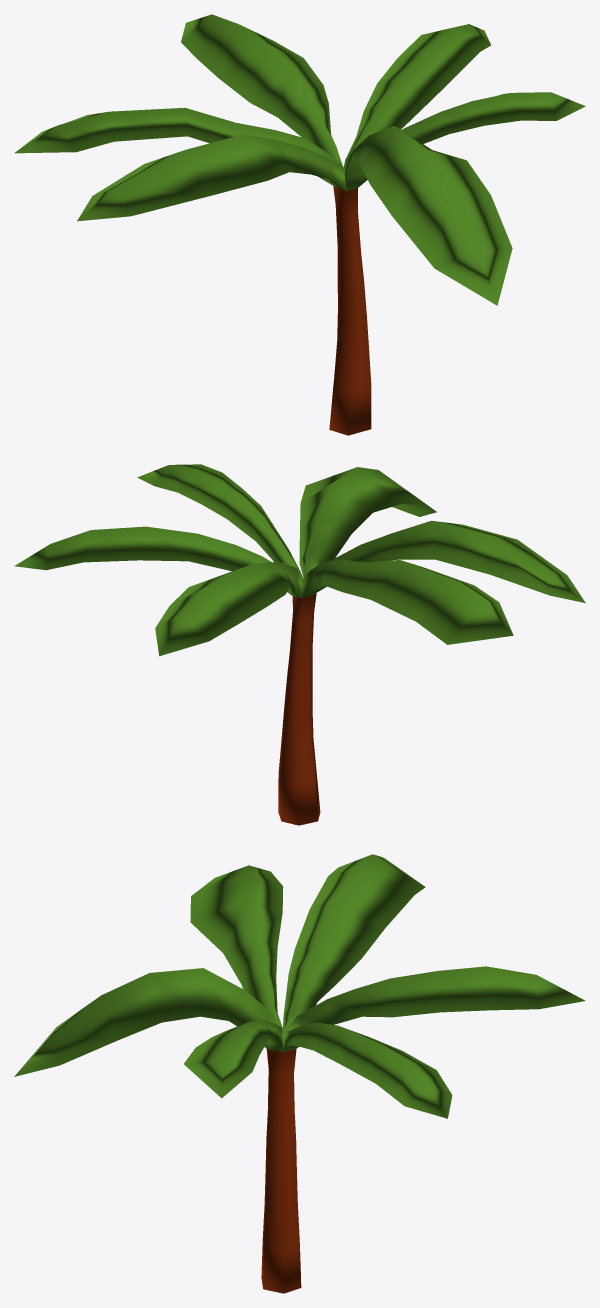
Rendered from palmtree2.obj.
The picture shows the model from 3 angles, top to bottom: view 1: azimuth 30°, elevation 25°; view 2: azimuth 150°, elevation 25°; view 3: azimuth 270°, elevation 25°; orthographic projection. The views are drawn at different scales.
Parts seen in each view (by area): view 1: polySurface1; view 2: polySurface1; view 3: polySurface1.
Part boxes in pixels (x1=…): polySurface1: x1=14, y1=14, x2=585, y2=435; polySurface1: x1=14, y1=464, x2=585, y2=825; polySurface1: x1=14, y1=854, x2=585, y2=1293.
Size of the model in its own units: 998 by 625 by 1000.
